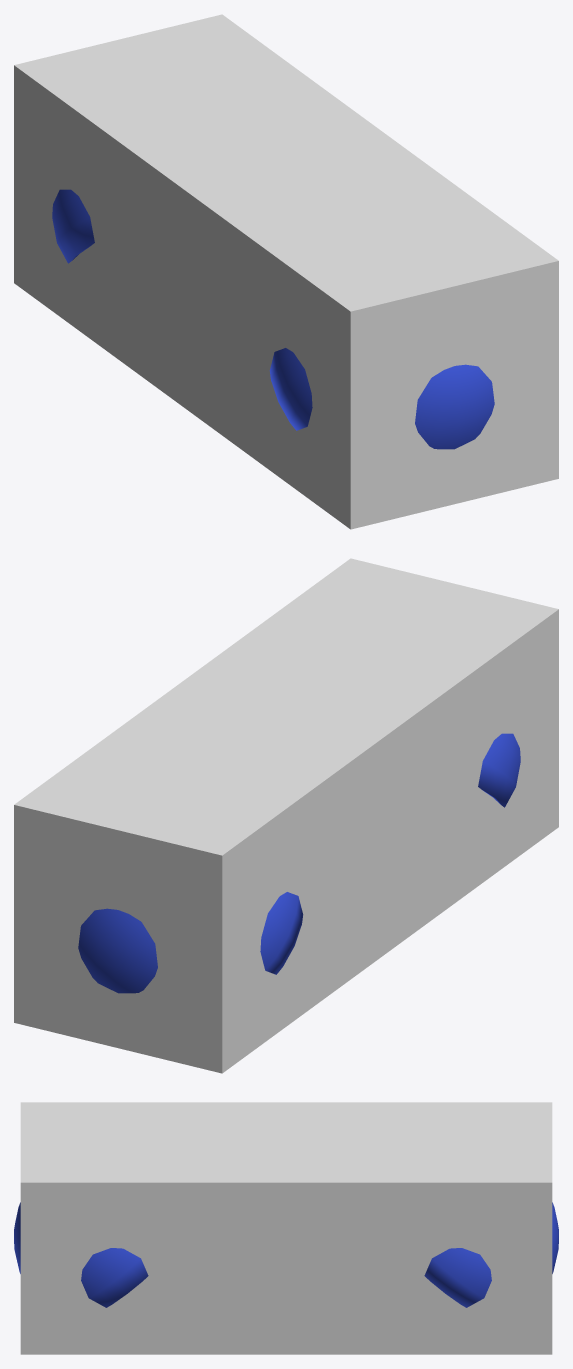
The model's file is bell.gltf.
3 views of the same model, one above another, from view 1: azimuth 30°, elevation 25°; view 2: azimuth 150°, elevation 25°; view 3: azimuth 270°, elevation 25° (orthographic). The views are drawn at different scales.
Visible parts, largest first — view 1: COL, 球.002, 球.001; view 2: COL, 球.001, 球.002; view 3: COL, 球.002, 球.001.
Part boxes in pixels (bbox=[...]): COL: bbox=[14, 14, 558, 529]; 球.002: bbox=[269, 348, 494, 449]; 球.001: bbox=[52, 189, 94, 263]; COL: bbox=[14, 558, 558, 1073]; 球.001: bbox=[78, 892, 303, 993]; 球.002: bbox=[478, 733, 520, 807]; COL: bbox=[20, 1102, 552, 1354]; 球.002: bbox=[14, 1202, 148, 1307]; 球.001: bbox=[424, 1202, 558, 1307].
Bounding box in the file's own units: 3.2 × 3 × 8.62.
